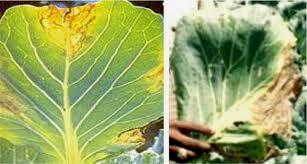Bok-Choy-Diseased: (0, 2, 160, 157), (177, 8, 307, 134)
